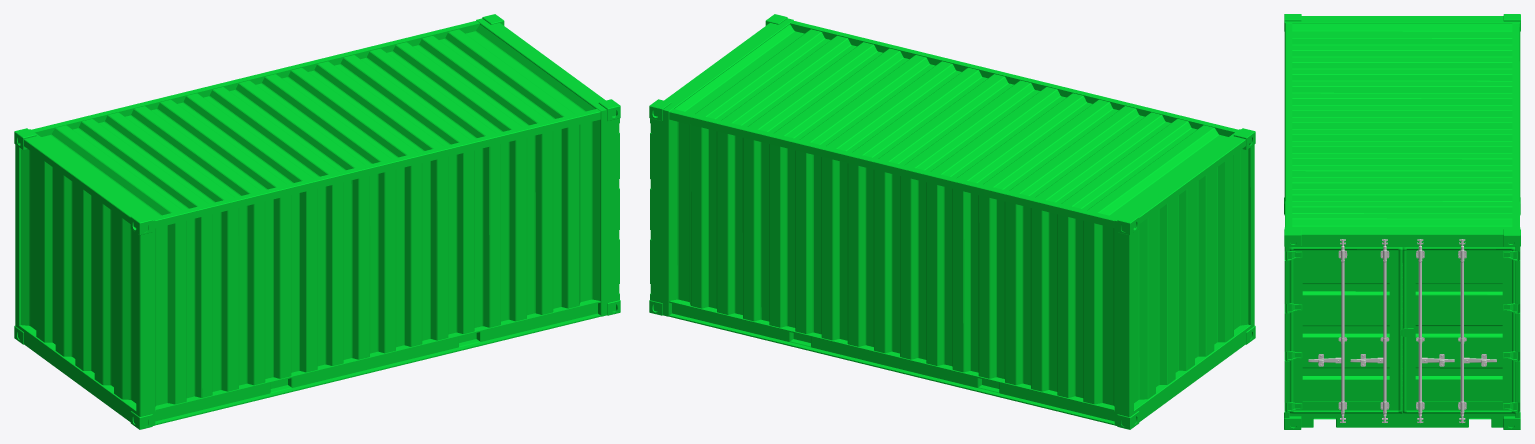
Rendered from container.glb.
3 views of the same model, side by side, from view 1: azimuth 30°, elevation 25°; view 2: azimuth 150°, elevation 25°; view 3: azimuth 270°, elevation 25° (orthographic). The views are drawn at different scales.
Parts seen in each view (by area): view 1: 12281_Container_v2_L2; view 2: 12281_Container_v2_L2; view 3: 12281_Container_v2_L2.
Boxes of the visible parts, left/top/right/bottom form: 12281_Container_v2_L2: left=14, top=14, right=620, bottom=429; 12281_Container_v2_L2: left=649, top=14, right=1255, bottom=429; 12281_Container_v2_L2: left=1284, top=14, right=1520, bottom=429.
Bounding box in the file's own units: 14.5 × 5.96 × 6.56.
